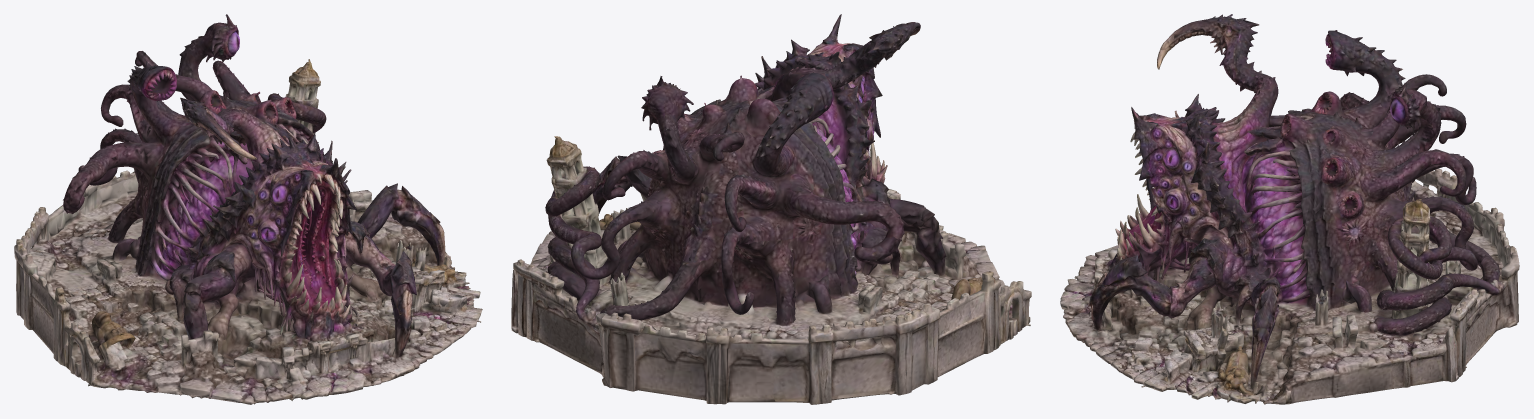
File: camps_rift-beast-city.glb
3 views of the same model, side by side, from view 1: azimuth 30°, elevation 25°; view 2: azimuth 150°, elevation 25°; view 3: azimuth 270°, elevation 25° (orthographic). The views are drawn at different scales.
Parts seen in each view (by area): view 1: tripo_node_266f8ef1-c234-44c2-a7d6-68a76117dae4; view 2: tripo_node_266f8ef1-c234-44c2-a7d6-68a76117dae4; view 3: tripo_node_266f8ef1-c234-44c2-a7d6-68a76117dae4.
Part boxes in pixels (x1,y1,x2,y2): tripo_node_266f8ef1-c234-44c2-a7d6-68a76117dae4: [14, 14, 482, 404]; tripo_node_266f8ef1-c234-44c2-a7d6-68a76117dae4: [511, 14, 1031, 404]; tripo_node_266f8ef1-c234-44c2-a7d6-68a76117dae4: [1060, 14, 1519, 404].
Size of the model in its own units: 0.9784 by 0.5854 by 0.9681.
1 material, 1 textured.
